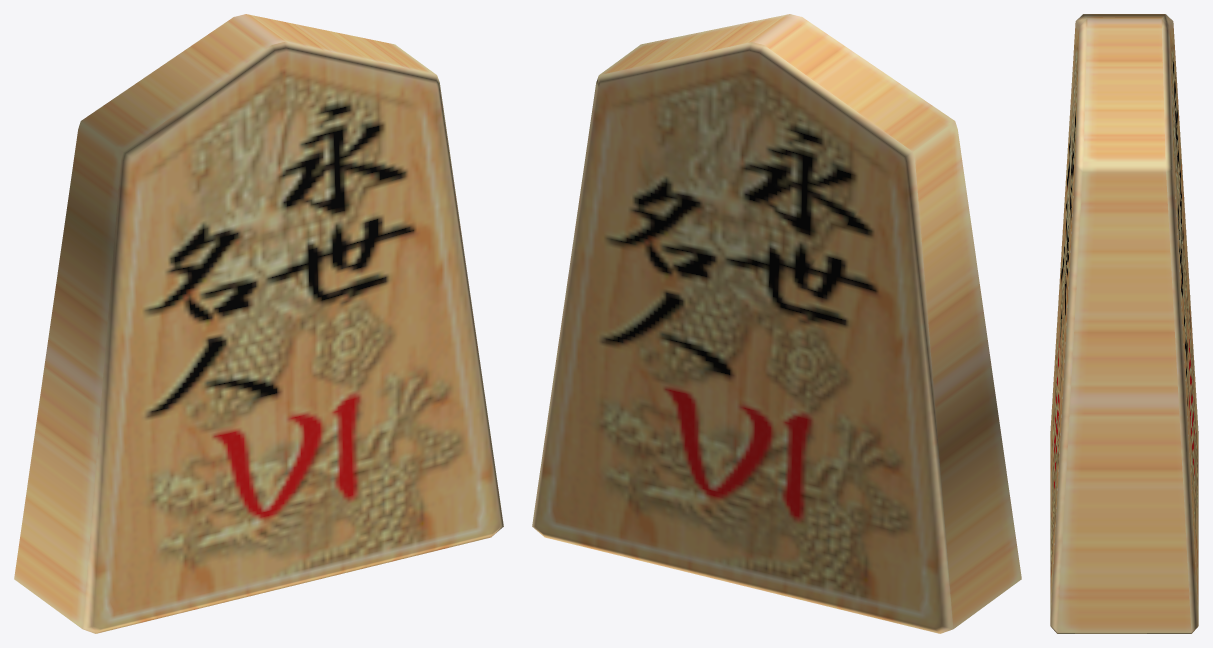
File: icon_1.obj
The picture shows the model from 3 angles, left to right: view 1: azimuth 30°, elevation 25°; view 2: azimuth 150°, elevation 25°; view 3: azimuth 270°, elevation 25°; orthographic projection. The views are drawn at different scales.
Size of the model in its own units: 4.15 by 5 by 1.3.
Materials: 1 (1 with a texture image).
